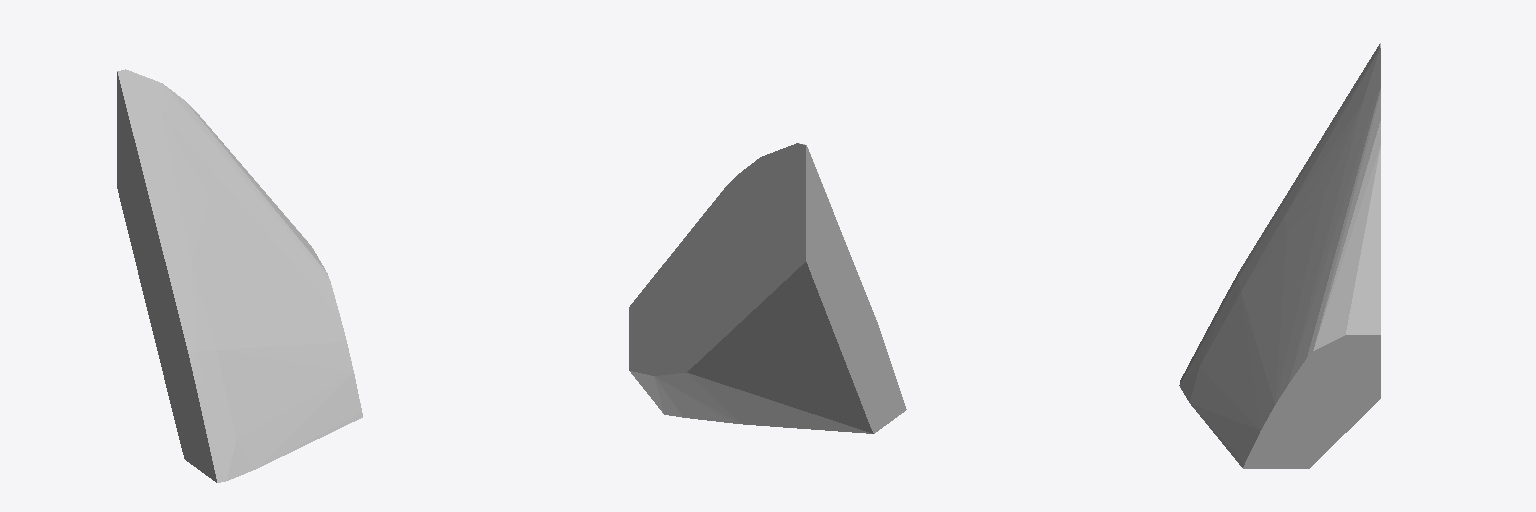
Rendered from phantom-elastrat_collision_460.obj.
The picture shows the model from 3 angles: view 1: azimuth 30°, elevation 25°; view 2: azimuth 150°, elevation 25°; view 3: azimuth 270°, elevation 25°; orthographic projection.
Size of the model in its own units: 0.0057 by 0.0104 by 0.0056.